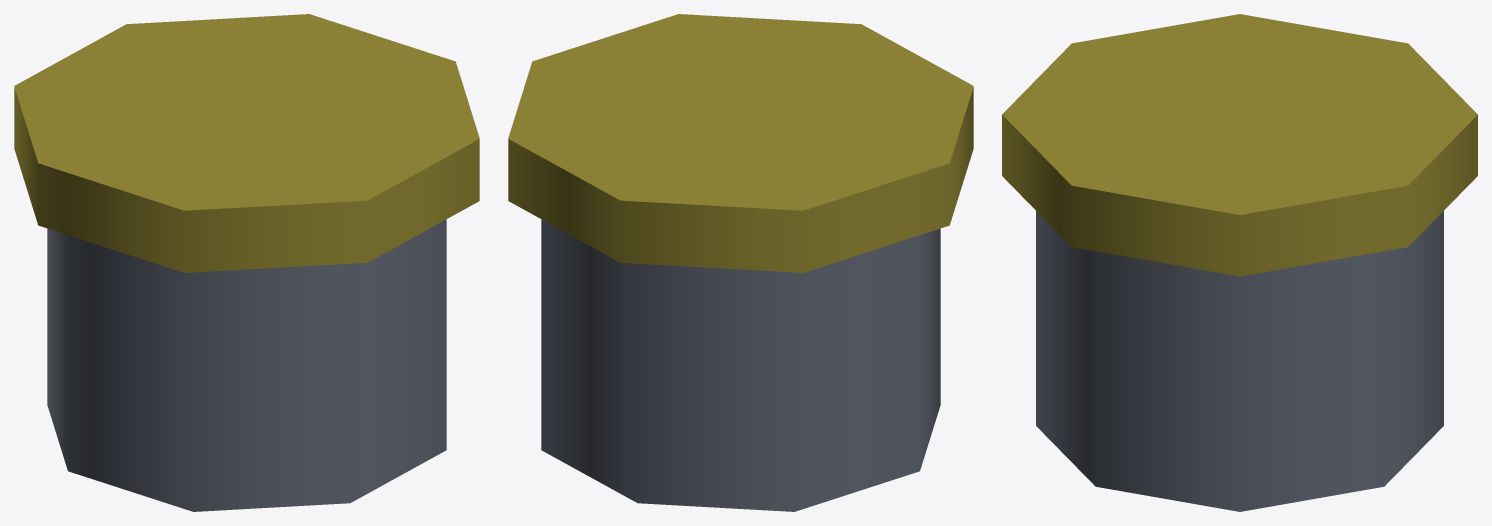
The model's file is Jar_Kitchen_03.fbx.
3 renders of one model, left to right at view 1: azimuth 30°, elevation 25°; view 2: azimuth 150°, elevation 25°; view 3: azimuth 270°, elevation 25°, orthographic.
Visible parts, largest first — view 1: Jar_Lid_03, Jar_Kitchen_03; view 2: Jar_Lid_03, Jar_Kitchen_03; view 3: Jar_Lid_03, Jar_Kitchen_03.
Boxes of the visible parts, x1,y1,x2,y2 form: Jar_Lid_03: (14,14,479,272); Jar_Kitchen_03: (47,219,446,511); Jar_Lid_03: (508,14,973,272); Jar_Kitchen_03: (541,219,940,511); Jar_Lid_03: (1002,14,1477,276); Jar_Kitchen_03: (1036,211,1443,511).
Bounding box in the file's own units: 0.8545 × 0.6165 × 0.8545.
